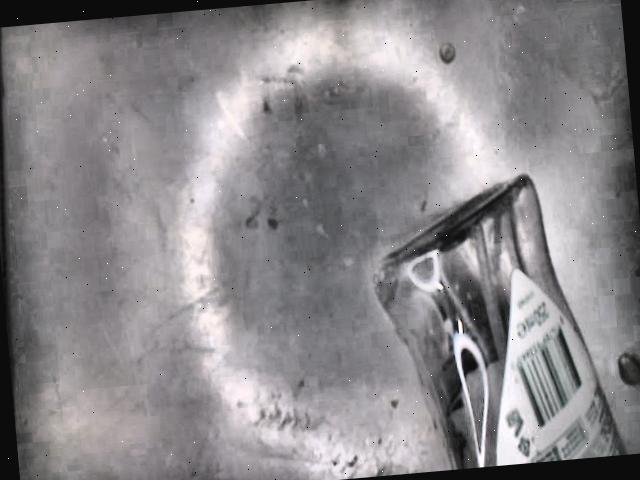Plastic: (369, 176, 631, 470)
